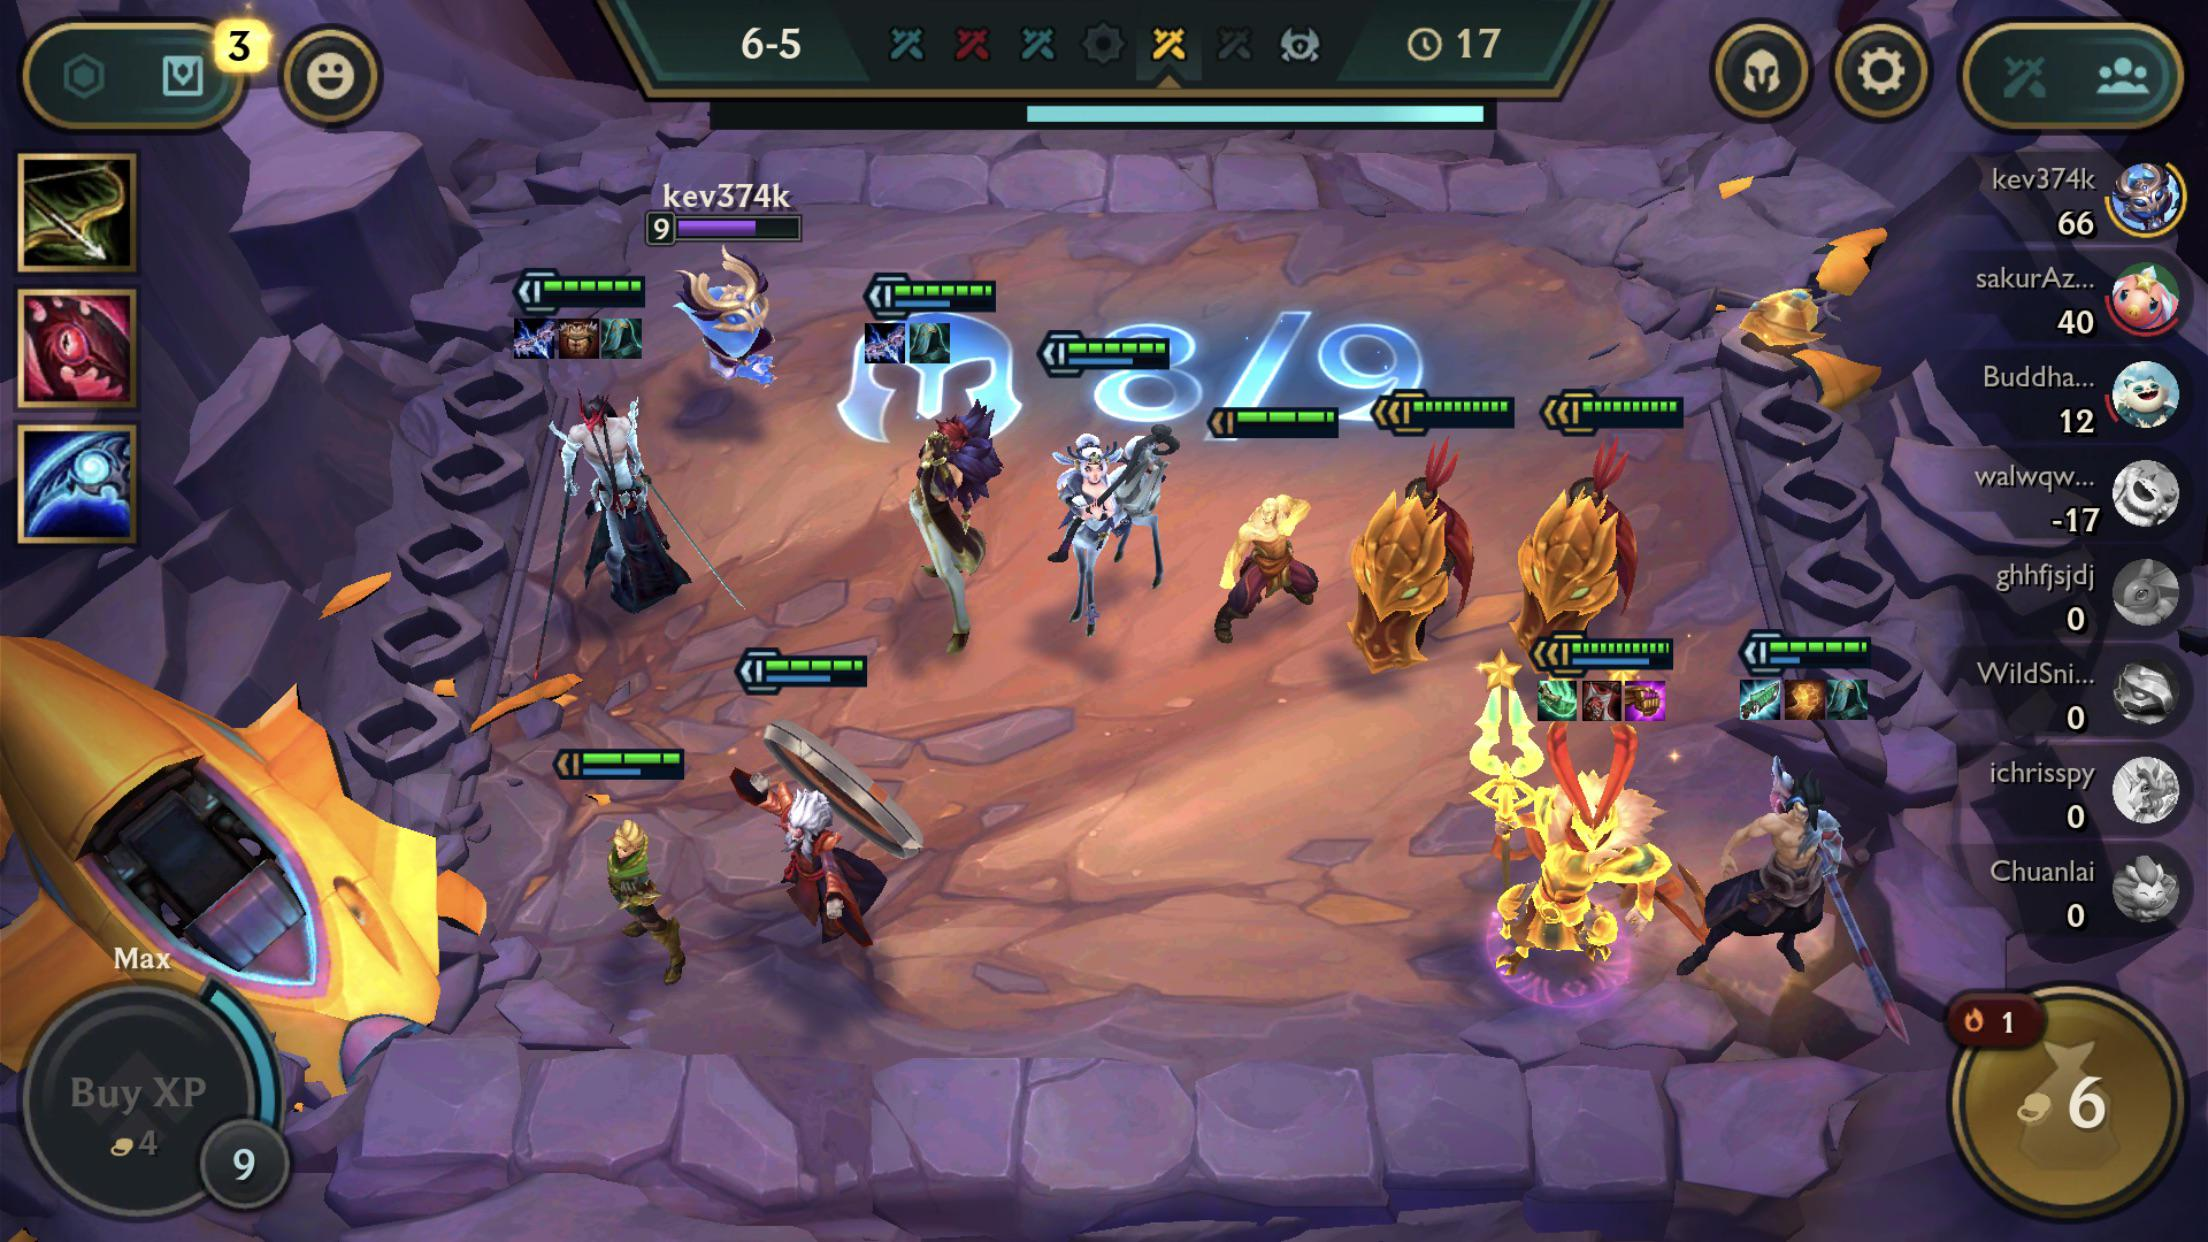1star_ezreal: (538, 735, 705, 1034)
1star_leesin: (1183, 384, 1350, 682)
2star_kayn: (1665, 585, 1909, 1034)
2star_lillia: (1005, 265, 1212, 699)
2star_sett: (836, 256, 1042, 692)
2star_yone: (484, 241, 764, 654)
2star_zilean: (710, 635, 945, 1008)
3star_azir: (1445, 619, 1726, 1048)
3star_azirsoldier: (1500, 346, 1703, 688), (1328, 358, 1532, 701)
item_bow: (24, 159, 130, 265)
item_bramble: (554, 309, 608, 365)
item_gunblade: (1733, 670, 1788, 726)
item_hoj: (1777, 670, 1833, 726)
item_jeweledgauntlet: (1620, 672, 1676, 728)
item_kaynblue: (23, 428, 135, 538)
item_kaynred: (23, 291, 133, 403)
item_quicksilver: (1818, 670, 1873, 726), (593, 308, 648, 364), (904, 312, 958, 369)
item_shojin: (1530, 670, 1585, 726)
item_spark: (510, 309, 566, 365), (861, 314, 916, 370)
item_zeke: (1576, 675, 1630, 731)
